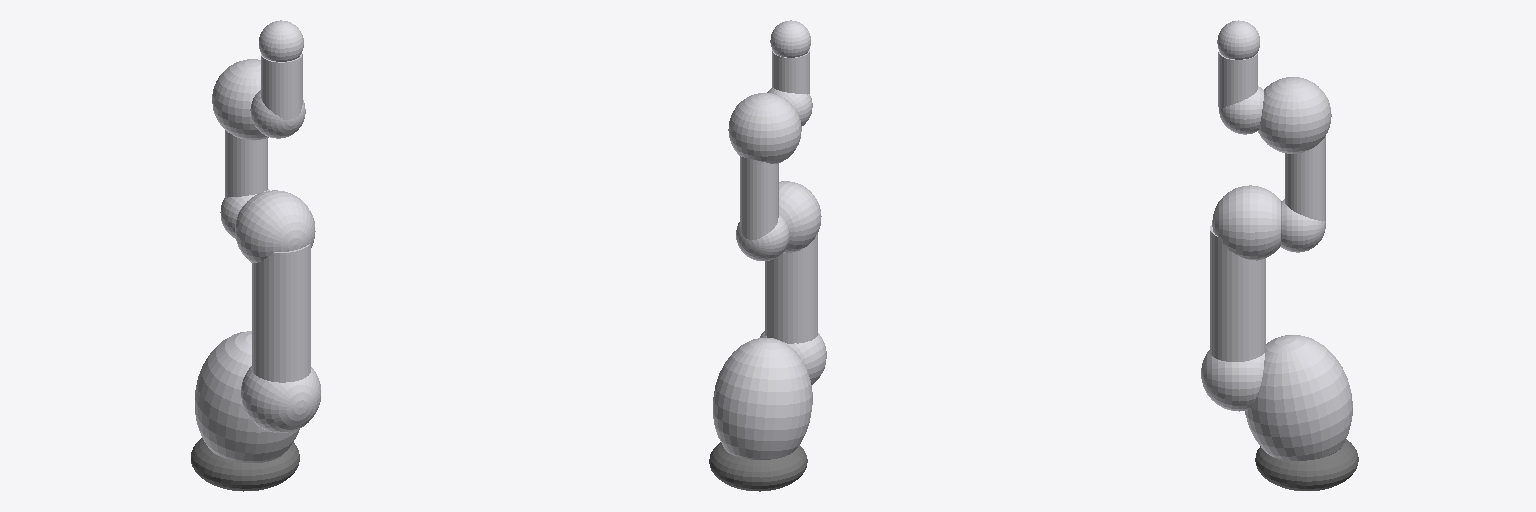
The robot description file, URDF, robot "indy7":
<?xml version="1.0" ?>
<robot name="indy7" xmlns:xacro="http://www.ros.org/wiki/xacro">
  <material name="black">
    <color rgba="0.0 0.0 0.0 1.0"/>
  </material>
  <material name="blue">
    <color rgba="0.0 0.0 0.8 1.0"/>
  </material>
  <material name="green">
    <color rgba="0.0 0.8 0.0 1.0"/>
  </material>
  <material name="grey_">
    <color rgba="0.2 0.2 0.2 1.0"/>
  </material>
  <material name="orange">
    <color rgba="1.0 0.423529411765 0.0392156862745 1.0"/>
  </material>
  <material name="brown">
    <color rgba="0.870588235294 0.811764705882 0.764705882353 1.0"/>
  </material>
  <material name="red">
    <color rgba="0.8 0.0 0.0 1.0"/>
  </material>
  <material name="white">
    <color rgba="1.0 1.0 1.0 1.0"/>
  </material>
  <material name="metal">
    <color rgba="0.768627450980392 0.749019607843137 0.729411764705882 1"/>
  </material>
  <material name="metal_grey">
    <color rgba="0.501960784313725 0.501960784313725 0.501960784313725 1"/>
  </material>
  <material name="metal_white">
    <color rgba="0.866666666666667 0.866666666666667 0.890196078431373 1"/>
  </material>

<link name="world">
  </link>
  <joint name="world_fixed" type="fixed">
    <origin rpy="0 0 0" xyz="0 0 0"/>
    <parent link="world"/>
    <child link="link0"/>
  </joint>

<link name="link0">
 <inertial>
      <origin rpy="0 0 0" xyz="0 0 0"/>
      <mass value="1.59306955" />
      <inertia ixx="+0.00572623" iyy="+0.00558959" izz="+0.00966674" ixy="+0.00000251" iyz="-0.00000014" ixz="-0.00011380"/>
    </inertial>
    <visual>
      <origin rpy="0 0 0" xyz="0 0 0"/>
      <geometry>
        <mesh filename="indy7/meshes/stl/Indy7_0.stl"/>
      </geometry>
      <material name="metal_grey"/>
    </visual>
    <collision>
      <origin rpy="0 0 0" xyz="0 0 0"/>
      <geometry>
        <mesh filename="indy7/meshes/stl/Indy7_0.stl"/>
      </geometry>
    </collision>
  </link>
<link name="link1">
   <inertial>
      <origin rpy="0 0 0" xyz="0 0 0"/>
      <mass value="11.8030102"/>
      <inertia ixx="+0.15418559" iyy="+0.12937017" izz="+0.05964415" ixy="-0.00000235" iyz="-0.04854267" ixz="+0.00001739"/>
    </inertial>
    <visual>
      <origin rpy="0 0 0" xyz="0 0 0"/>
      <geometry>
        <mesh filename="indy7/meshes/stl/Indy7_1.stl"/>
      </geometry>
      <material name="metal_white"/>
    </visual>
    <collision>
      <origin rpy="0 0 0" xyz="0 0 0"/>
      <geometry>
        <mesh filename="indy7/meshes/stl/Indy7_1.stl"/>
      </geometry>
    </collision>
</link>
 <link name="link2">
 <inertial>
      <origin rpy="0 0 0" xyz="0 0 0"/>
      <mass value="7.99292141"/>
      <inertia ixx="+0.29356980" iyy="+0.28094142" izz="+0.03620609" ixy="-0.00000040" iyz="+0.03727972" ixz="+0.00001441"/>
    </inertial>
    <visual>
      <origin rpy="0 0 0" xyz="0 0 0"/>
      <geometry>
        <mesh filename="indy7/meshes/stl/Indy7_2.stl"/>
      </geometry>
      <material name="metal_white"/>
    </visual>
    <collision>
      <origin rpy="0 0 0" xyz="0 0 0"/>
      <geometry>
        <mesh filename="indy7/meshes/stl/Indy7_2.stl"/>
      </geometry>
    </collision>
  </link>

 <link name="link3">
   <inertial>
      <origin rpy="0 0 0" xyz="0 0 0"/>
      <mass value="2.99134127"/>
      <inertia ixx="+0.03424593" iyy="+0.03406024" izz="+0.00450477" ixy="+0.00000149" iyz="+0.00186009" ixz="+0.00000724"/>
    </inertial>
    <visual>
      <origin rpy="0 0 0" xyz="0 0 0"/>
      <geometry>
        <mesh filename="indy7/meshes/stl/Indy7_3.stl"/>
      </geometry>
      <material name="metal_white"/>
    </visual>
    <collision>
      <origin rpy="0 0 0" xyz="0 0 0"/>
      <geometry>
        <mesh filename="indy7/meshes/stl/Indy7_3.stl"/>
      </geometry>
    </collision>
  </link>
  <link name="link4">
    <inertial>
      <origin rpy="0 0 0" xyz="0 0 0"/>
      <mass value="2.12317035"/>
      <inertia ixx="+0.00670405" iyy="+0.00279246" izz="+0.00619341" ixy="+0.00000375" iyz="-0.00127967" ixz="+0.00000150"/>
    </inertial>
    <visual>
      <origin rpy="0 0 0" xyz="0 0 0"/>
      <geometry>
        <mesh filename="indy7/meshes/stl/Indy7_4.stl"/>
      </geometry>
      <material name="metal_white"/>
    </visual>
    <collision>
      <origin rpy="0 0 0" xyz="0 0 0"/>
      <geometry>
        <mesh filename="indy7/meshes/stl/Indy7_4.stl"/>
      </geometry>
    </collision>
  </link>
  <link name="link5">
    <inertial>
      <origin rpy="0 0 0" xyz="0 0 0"/>
     <mass value="2.28865091"/>
      <inertia ixx="+0.00994891" iyy="+0.00978189" izz="+0.00271492" ixy="+0.00000014" iyz="-0.00093546" ixz="+0.00000321"/>
    </inertial>
    <visual>
      <origin rpy="0 0 0" xyz="0 0 0"/>
      <geometry>
        <mesh filename="indy7/meshes/stl/Indy7_5.stl"/>
      </geometry>
      <material name="metal_white"/>
    </visual>
    <collision>
      <origin rpy="0 0 0" xyz="0 0 0"/>
      <geometry>
        <mesh filename="indy7/meshes/stl/Indy7_5.stl"/>
      </geometry>
    </collision>

  </link>
  <link name="link6">
    <inertial>
      <origin rpy="0 0 0" xyz="0 0 0"/>
      <mass value="0.40083918"/>
      <inertia ixx="0.00043534" iyy="0.00044549" izz="0.00059634" ixy="+0.00000013" iyz="+0.00000051" ixz="-0.00000002"/>
    </inertial>
    <visual>
      <origin rpy="0 0 0" xyz="0 0 0"/>
      <geometry>
        <mesh filename="indy7/meshes/stl/Indy7_6.stl"/>
      </geometry>
      <material name="metal_white"/>
    </visual>
    <collision>
      <origin rpy="0 0 0" xyz="0 0 0"/>
      <geometry>
        <mesh filename="indy7/meshes/stl/Indy7_6.stl"/>
      </geometry>
    </collision>
  </link>
  <link name="gripper_link">
    <inertial>
      <origin rpy="0 0 0" xyz="0 0 0"/>
      <mass value="0.5"/>
      <inertia ixx="0.00043534" iyy="0.00044549" izz="0.00059634" ixy="+0.00000013" iyz="+0.00000051" ixz="-0.00000002"/>
    </inertial>
    <visual>
      <origin rpy="0 0 0" xyz="0 0 0"/>
      <geometry>
        <mesh filename="indy7/meshes/stl/gripper.stl"/>
      </geometry>
      <material name="black"/>
    </visual>
    <collision>
      <origin rpy="0 0 0" xyz="0 0 0"/>
      <geometry>
        <mesh filename="indy7/meshes/stl/gripper.stl"/>
      </geometry>
    </collision>
  </link>


  <link name="tcp"/>

  <joint name="joint0" type="continuous">
    <parent link="link0"/>
    <child link="link1"/>
    <origin xyz="0 0 0.0775" rpy="0 0 0"/>
    <axis xyz = "0 0 1"/>
       <!--<limit effort="300" lower="-3.054325556" upper="3.054325556" velocity="10"/>
    <dynamics damping="0.5"/>-->
  </joint>


 <joint name="joint1" type="continuous">
    <parent link="link1"/>
    <child link="link2"/>
    <origin xyz = "0 -0.10900000 0.22200000" rpy = "1.570796 1.570796 0"/>
    	<axis xyz = "0 0 1"/>
   <!-- <limit effort="300" lower="-3.054325556" upper="3.054325556" velocity="10"/>
    <dynamics damping="0.5"/>-->
  </joint>

  <joint name="joint2" type="continuous">
    <parent link="link2"/>
    <child link="link3"/>
    <origin xyz = "-0.45000000 +0.00000000 -0.03050000" rpy = "0 0 0"/>
    	<axis xyz = "0 0 1"/>
       <!--<limit effort="300" lower="-3.054325556" upper="3.054325556" velocity="10"/>
    <dynamics damping="0.5"/>-->
  </joint>
  <joint name="joint3" type="continuous">
    <parent link="link3"/>
    <child link="link4"/>
    	<origin xyz = "-0.26700000 +0.00000000 -0.07500000" rpy = "-1.570796 0 1.570796"/>
    	<axis xyz = "0 0 1"/>
      <!-- <limit effort="300" lower="-3.054325556" upper="3.054325556" velocity="10"/>
    <dynamics damping="0.5"/>-->
  </joint>

  <joint name="joint4" type="continuous">
    <parent link="link4"/>
    <child link="link5"/>
    <origin xyz = "+0.00000000 -0.11400000 +0.08300000" rpy = "1.570796 1.570796 0"/>
    <axis xyz = "0 0 1"/>
      <!-- <limit effort="300" lower="-3.054325556" upper="3.054325556" velocity="10"/>
    <dynamics damping="0.5"/>-->
  </joint>

  <joint name="joint5" type="continuous">
    <parent link="link5"/>
    <child link="link6"/>
    <origin xyz = "-0.16800000 +0.00000000 +0.06900000" rpy = "-1.570796 0 1.570796"/>
    	<axis xyz = "0 0 1"/>
       <!--<limit effort="300" lower="-3.054325556" upper="3.054325556" velocity="10"/>
    <dynamics damping="0.5"/>-->
  </joint>

  <joint name="gripper" type="fixed">
    <parent link="link6"/>
    <child link="gripper_link"/>
    <origin xyz="0 0 0.06" rpy="0 0 0"/>
  </joint>
  <joint name="tcp" type="fixed">
    <parent link="gripper_link"/>
    <child link="tcp"/>
    <origin xyz="0 0 0.06" rpy="0 0 0"/>
  </joint>

 

</robot>

--- Facts derived from the render (not from the file) ---
3 views of the same robot in one strip: view 1: azimuth 30°, elevation 25°; view 2: azimuth 150°, elevation 25°; view 3: azimuth 270°, elevation 25° (orthographic).
Model indy7 with 10 links and 9 joints (6 continuous, 3 fixed), rooted at world, posed all joints at 0.
Visible links, largest first — view 1: link2, link1, link5, link0, link3, link4, link6; view 2: link1, link2, link3, link4, link0, link5, link6; view 3: link2, link1, link4, link3, link5, link0, link6.
Boxes of the visible links, left/top/right/bottom form: link2: left=235, top=190, right=320, bottom=432; link1: left=195, top=331, right=299, bottom=462; link5: left=250, top=54, right=305, bottom=138; link0: left=191, top=438, right=299, bottom=491; link3: left=220, top=130, right=269, bottom=238; link4: left=212, top=59, right=268, bottom=140; link6: left=259, top=20, right=303, bottom=61; link1: left=713, top=338, right=812, bottom=459; link2: left=760, top=181, right=826, bottom=384; link3: left=736, top=156, right=789, bottom=260; link4: left=728, top=93, right=801, bottom=163; link0: left=709, top=442, right=807, bottom=491; link5: left=767, top=49, right=812, bottom=125; link6: left=770, top=20, right=810, bottom=57; link2: left=1201, top=185, right=1280, bottom=411; link1: left=1245, top=335, right=1352, bottom=460; link4: left=1258, top=77, right=1331, bottom=153; link3: left=1280, top=136, right=1325, bottom=252; link5: left=1218, top=51, right=1263, bottom=134; link0: left=1255, top=439, right=1358, bottom=490; link6: left=1217, top=20, right=1259, bottom=59.
Bounding box of the posed robot: 0.2853 × 0.4325 × 1.39 m (x, y, z).
7 mesh visuals loaded from 8 distinct referenced files (7 binary STL); not drawn: 1 (reference not matched to a file when rendering).
